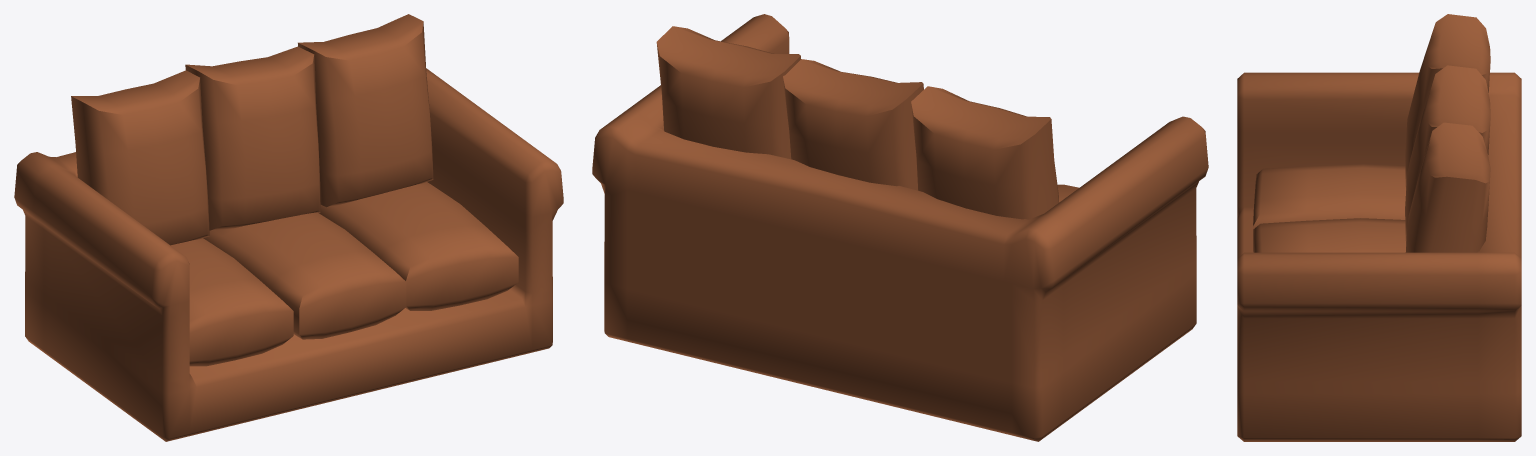
File: pk_love_cognac.glb
The picture shows the model from 3 angles, left to right: view 1: azimuth 30°, elevation 25°; view 2: azimuth 150°, elevation 25°; view 3: azimuth 270°, elevation 25°; orthographic projection. The views are drawn at different scales.
Parts seen in each view (by area): view 1: pk_love_cognac; view 2: pk_love_cognac; view 3: pk_love_cognac.
Part boxes in pixels (x1,y1,x2,y2): pk_love_cognac: (14, 14, 563, 441); pk_love_cognac: (592, 14, 1208, 441); pk_love_cognac: (1237, 14, 1521, 441).
Size of the model in its own units: 1.65 by 1 by 1.
Materials: 1 (1 with a texture image).
